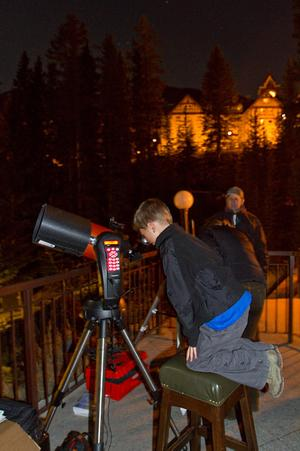person: (134, 195, 286, 399)
